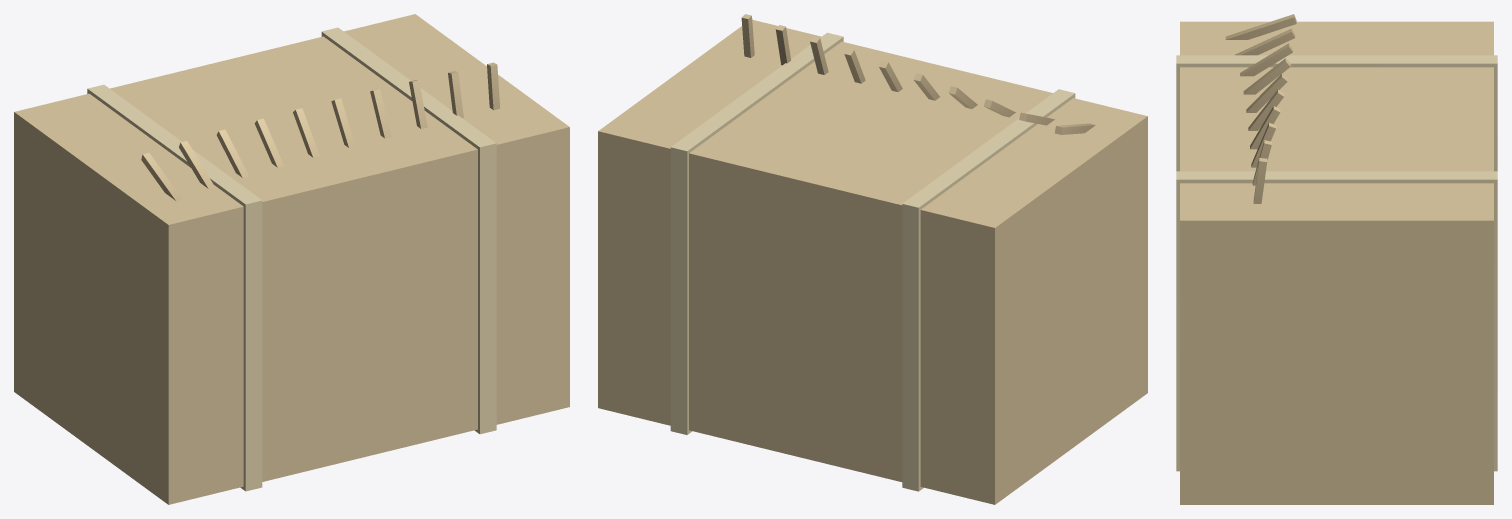
File: VHayBale.fbx
3 views of the same model, side by side, from view 1: azimuth 30°, elevation 25°; view 2: azimuth 150°, elevation 25°; view 3: azimuth 270°, elevation 25° (orthographic). The views are drawn at different scales.
Visible parts, largest first — view 1: VHayBale; view 2: VHayBale; view 3: VHayBale.
Part boxes in pixels (left/top/right/bottom): VHayBale: left=14, top=14, right=569, bottom=504; VHayBale: left=598, top=14, right=1147, bottom=504; VHayBale: left=1176, top=14, right=1497, bottom=504.
Size of the model in its own units: 1.2 by 0.9305 by 0.82.
